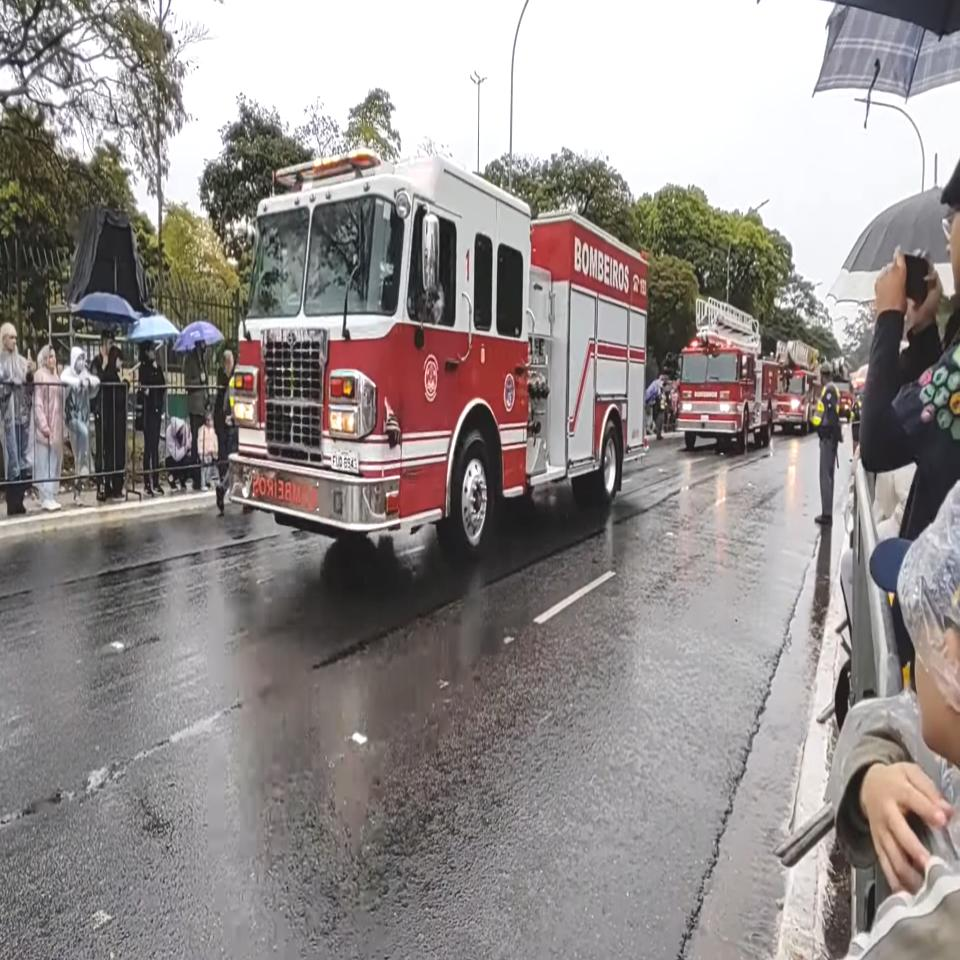bombeiro: (225, 148, 652, 570), (675, 294, 779, 456)
